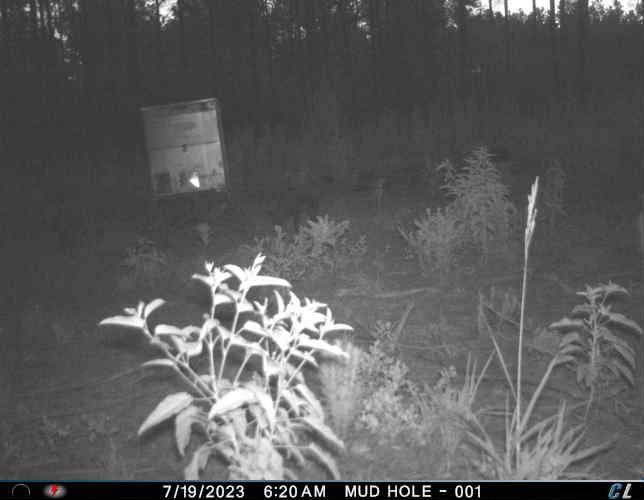Hog: (267, 175, 325, 237)
